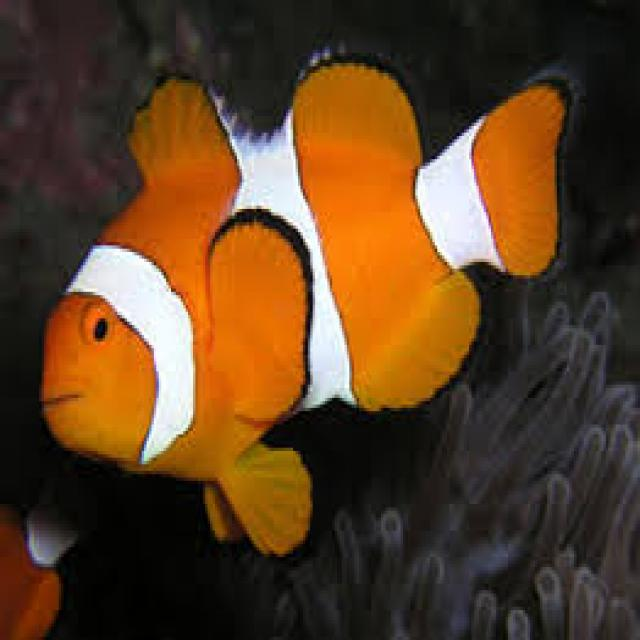Amphiprion-percula: (18, 51, 593, 576)
